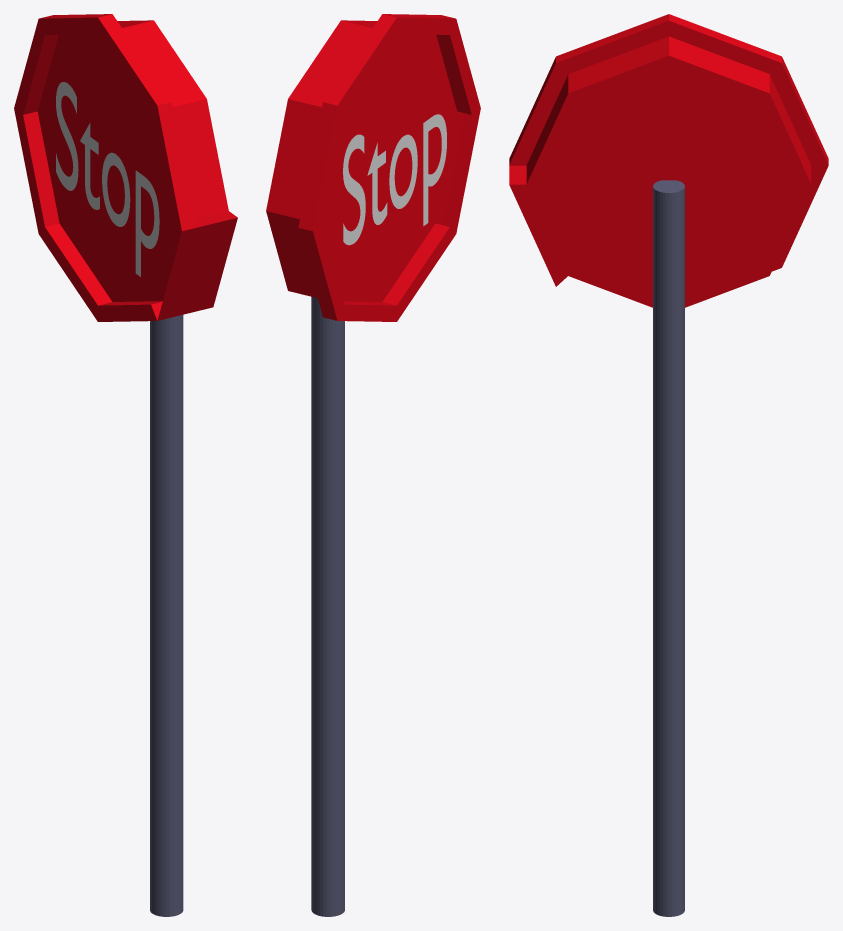
Rendered from StopSign.fbx.
3 views of the same model, side by side, from view 1: azimuth 30°, elevation 25°; view 2: azimuth 150°, elevation 25°; view 3: azimuth 270°, elevation 25° (orthographic). The views are drawn at different scales.
Parts seen in each view (by area): view 1: Cylinder.001, Cylinder, Text; view 2: Cylinder.001, Cylinder, Text; view 3: Cylinder.001, Cylinder.
Boxes of the visible parts, x1,y1,x2,y2 form: Cylinder.001: (14, 14, 237, 321); Cylinder: (150, 315, 183, 916); Text: (56, 82, 159, 276); Cylinder.001: (266, 14, 480, 321); Cylinder: (311, 296, 344, 916); Text: (343, 114, 446, 245); Cylinder.001: (509, 14, 828, 307); Cylinder: (653, 180, 684, 916).
Size of the model in its own units: 57.19 by 597 by 200.
